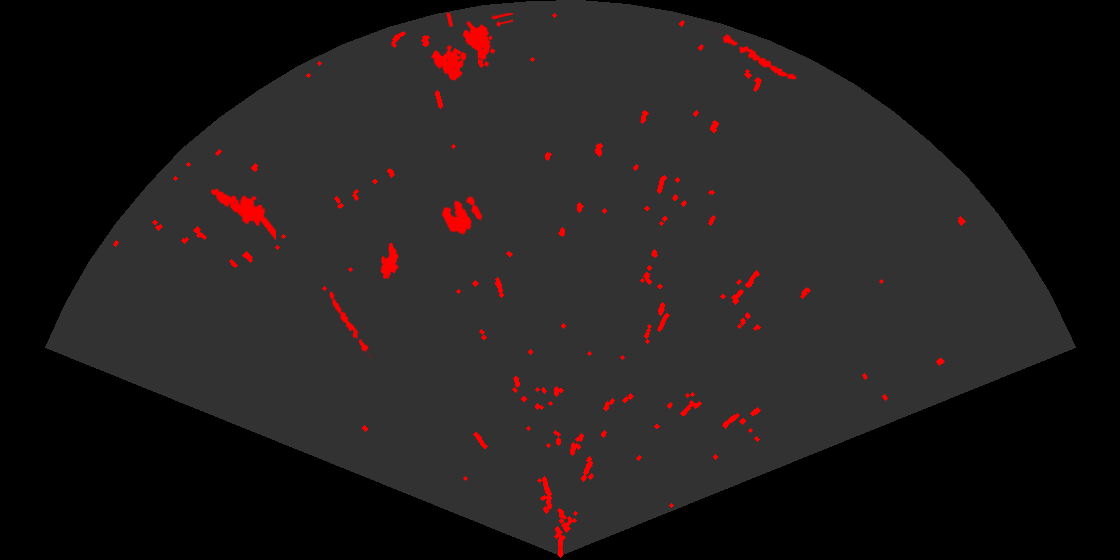AUV: (379, 241, 400, 281)
ball: (440, 194, 484, 236)
cage: (429, 13, 513, 82)
chain: (712, 28, 798, 81), (328, 290, 374, 359)
frogman: (209, 187, 276, 240)
